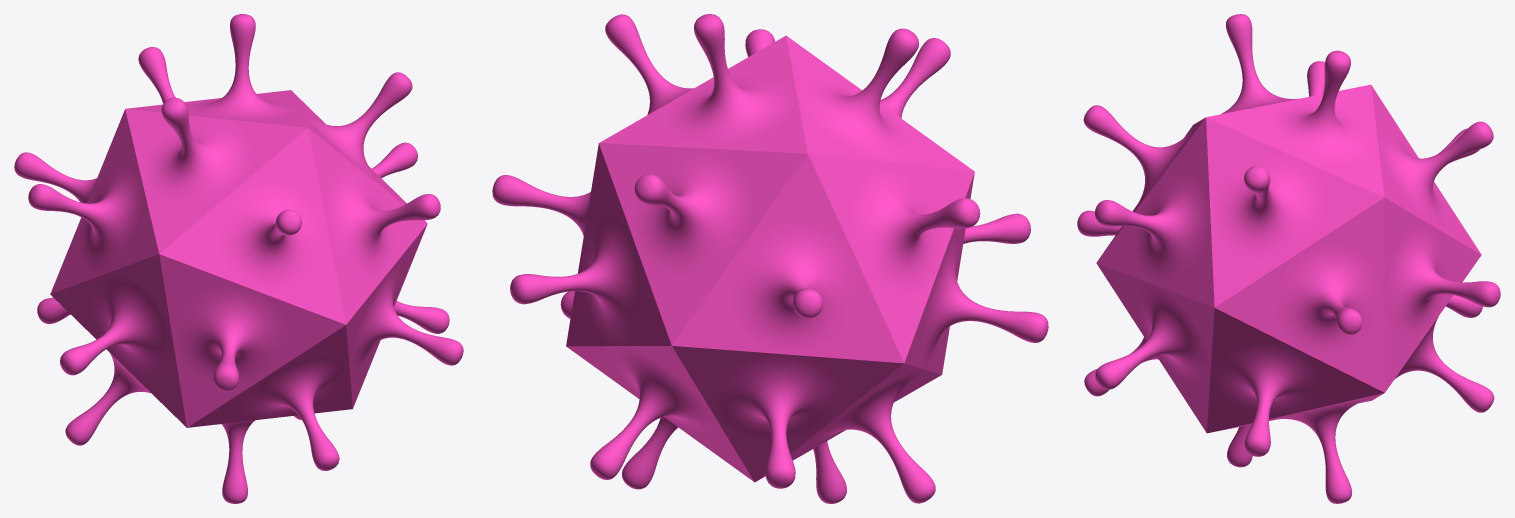
The picture shows the model from 3 angles, left to right: view 1: azimuth 30°, elevation 25°; view 2: azimuth 150°, elevation 25°; view 3: azimuth 270°, elevation 25°; orthographic projection. The views are drawn at different scales.
Size of the model in its own units: 52.11 by 52.84 by 46.01.
